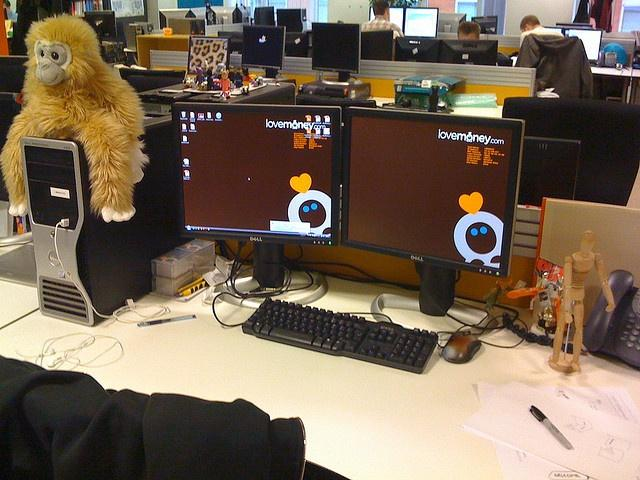AIO PC-Monitor-TV: (340, 105, 526, 277), (170, 100, 341, 248)
